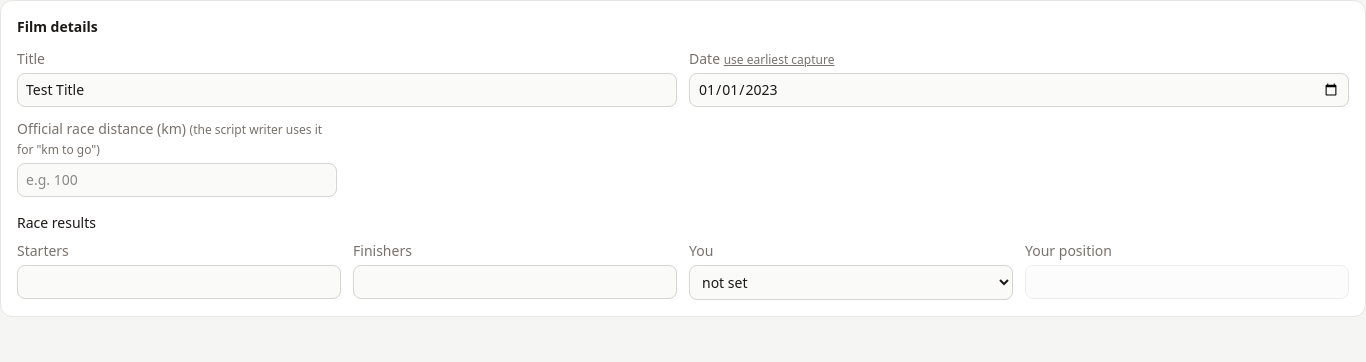
Test case: shows an error if save fails
The image size is (1366, 362).
Step 1. Replace the text in the field with placeholder "Race or film title" with "Fail Title" → (347, 90), box [17, 73, 677, 107]
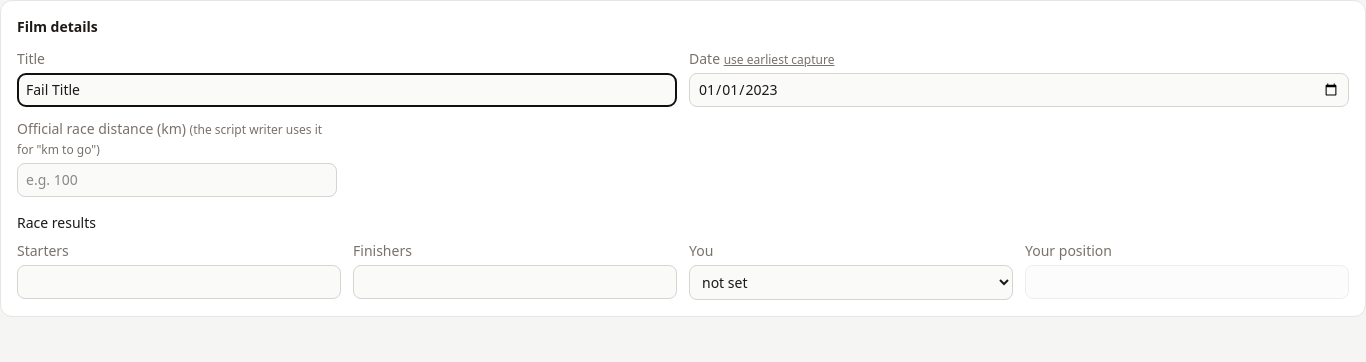
Step 2. Click the element that starts with "Film details" → (683, 158), box [0, 0, 1365, 317]
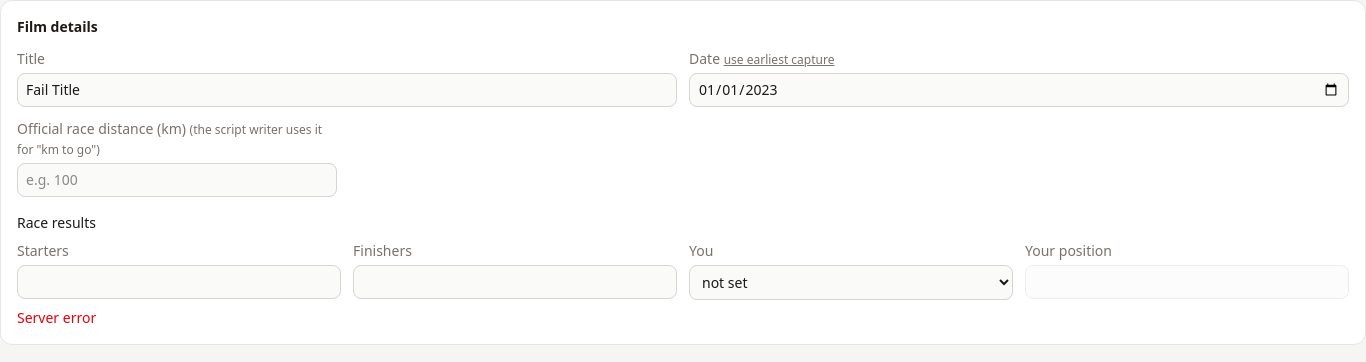
Expected: the text "Server error" is shown, [17, 308, 96, 327]
